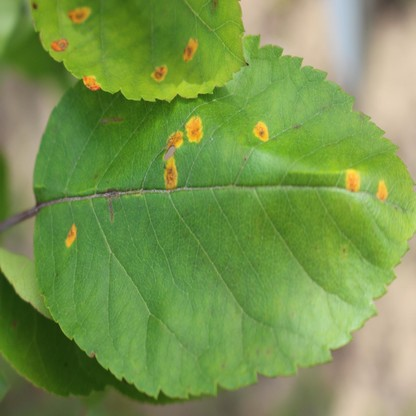rust: (163, 130, 183, 189), (185, 114, 203, 142), (183, 37, 197, 61), (69, 6, 91, 21), (254, 119, 268, 142), (345, 168, 359, 191), (65, 223, 76, 248), (151, 65, 168, 81), (82, 76, 100, 90), (51, 39, 69, 51), (377, 179, 387, 200)
